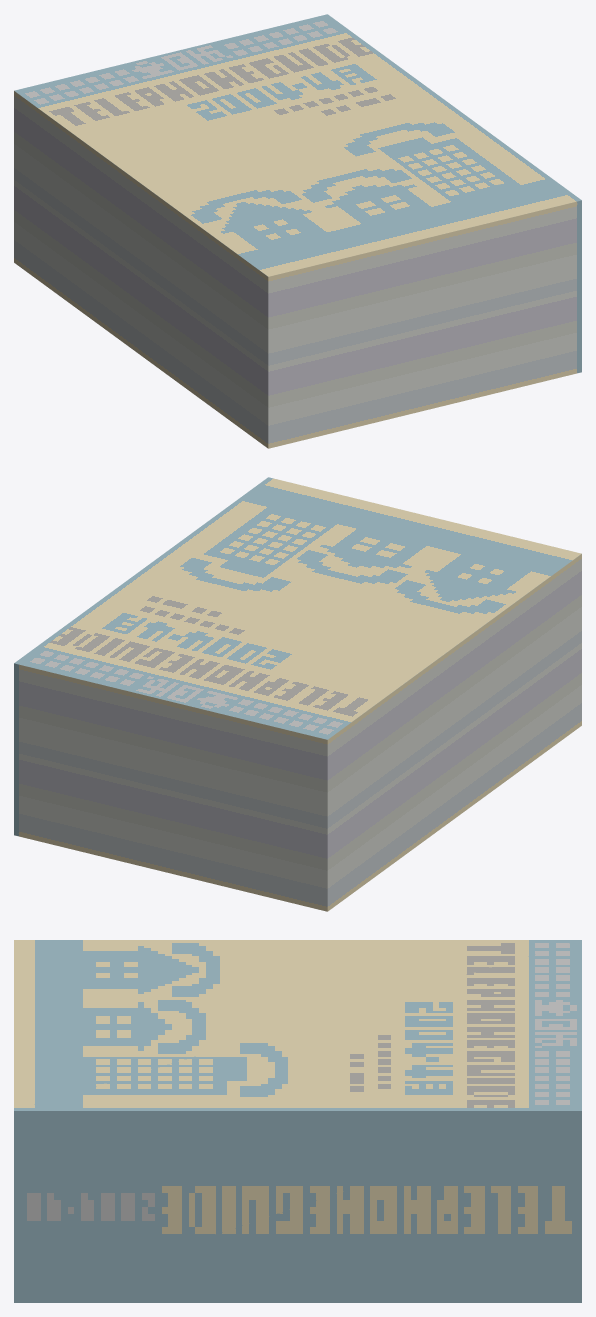
File: 0018_Telephone_Book.glb
3 views of the same model, one above another, from view 1: azimuth 30°, elevation 25°; view 2: azimuth 150°, elevation 25°; view 3: azimuth 270°, elevation 25° (orthographic). The views are drawn at different scales.
Parts seen in each view (by area): view 1: part_0; view 2: part_0; view 3: part_0.
Boxes of the visible parts, x1=… form: part_0: x1=14, y1=14, x2=581, y2=448; part_0: x1=14, y1=477, x2=581, y2=911; part_0: x1=14, y1=940, x2=581, y2=1302.
Size of the model in its own units: 0.21 by 0.11 by 0.295.
Materials: 1 (1 with a texture image).
